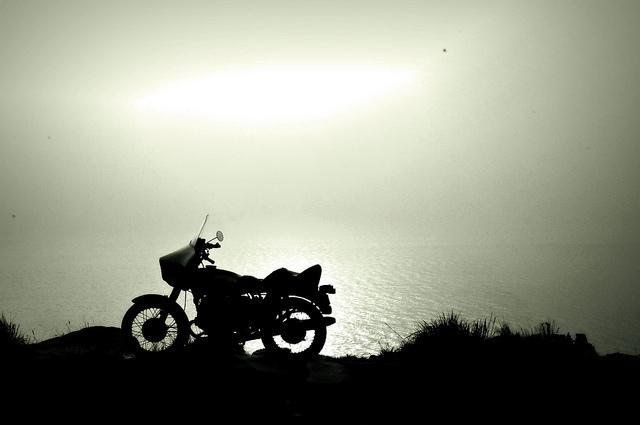motorcycle: (120, 214, 338, 360)
